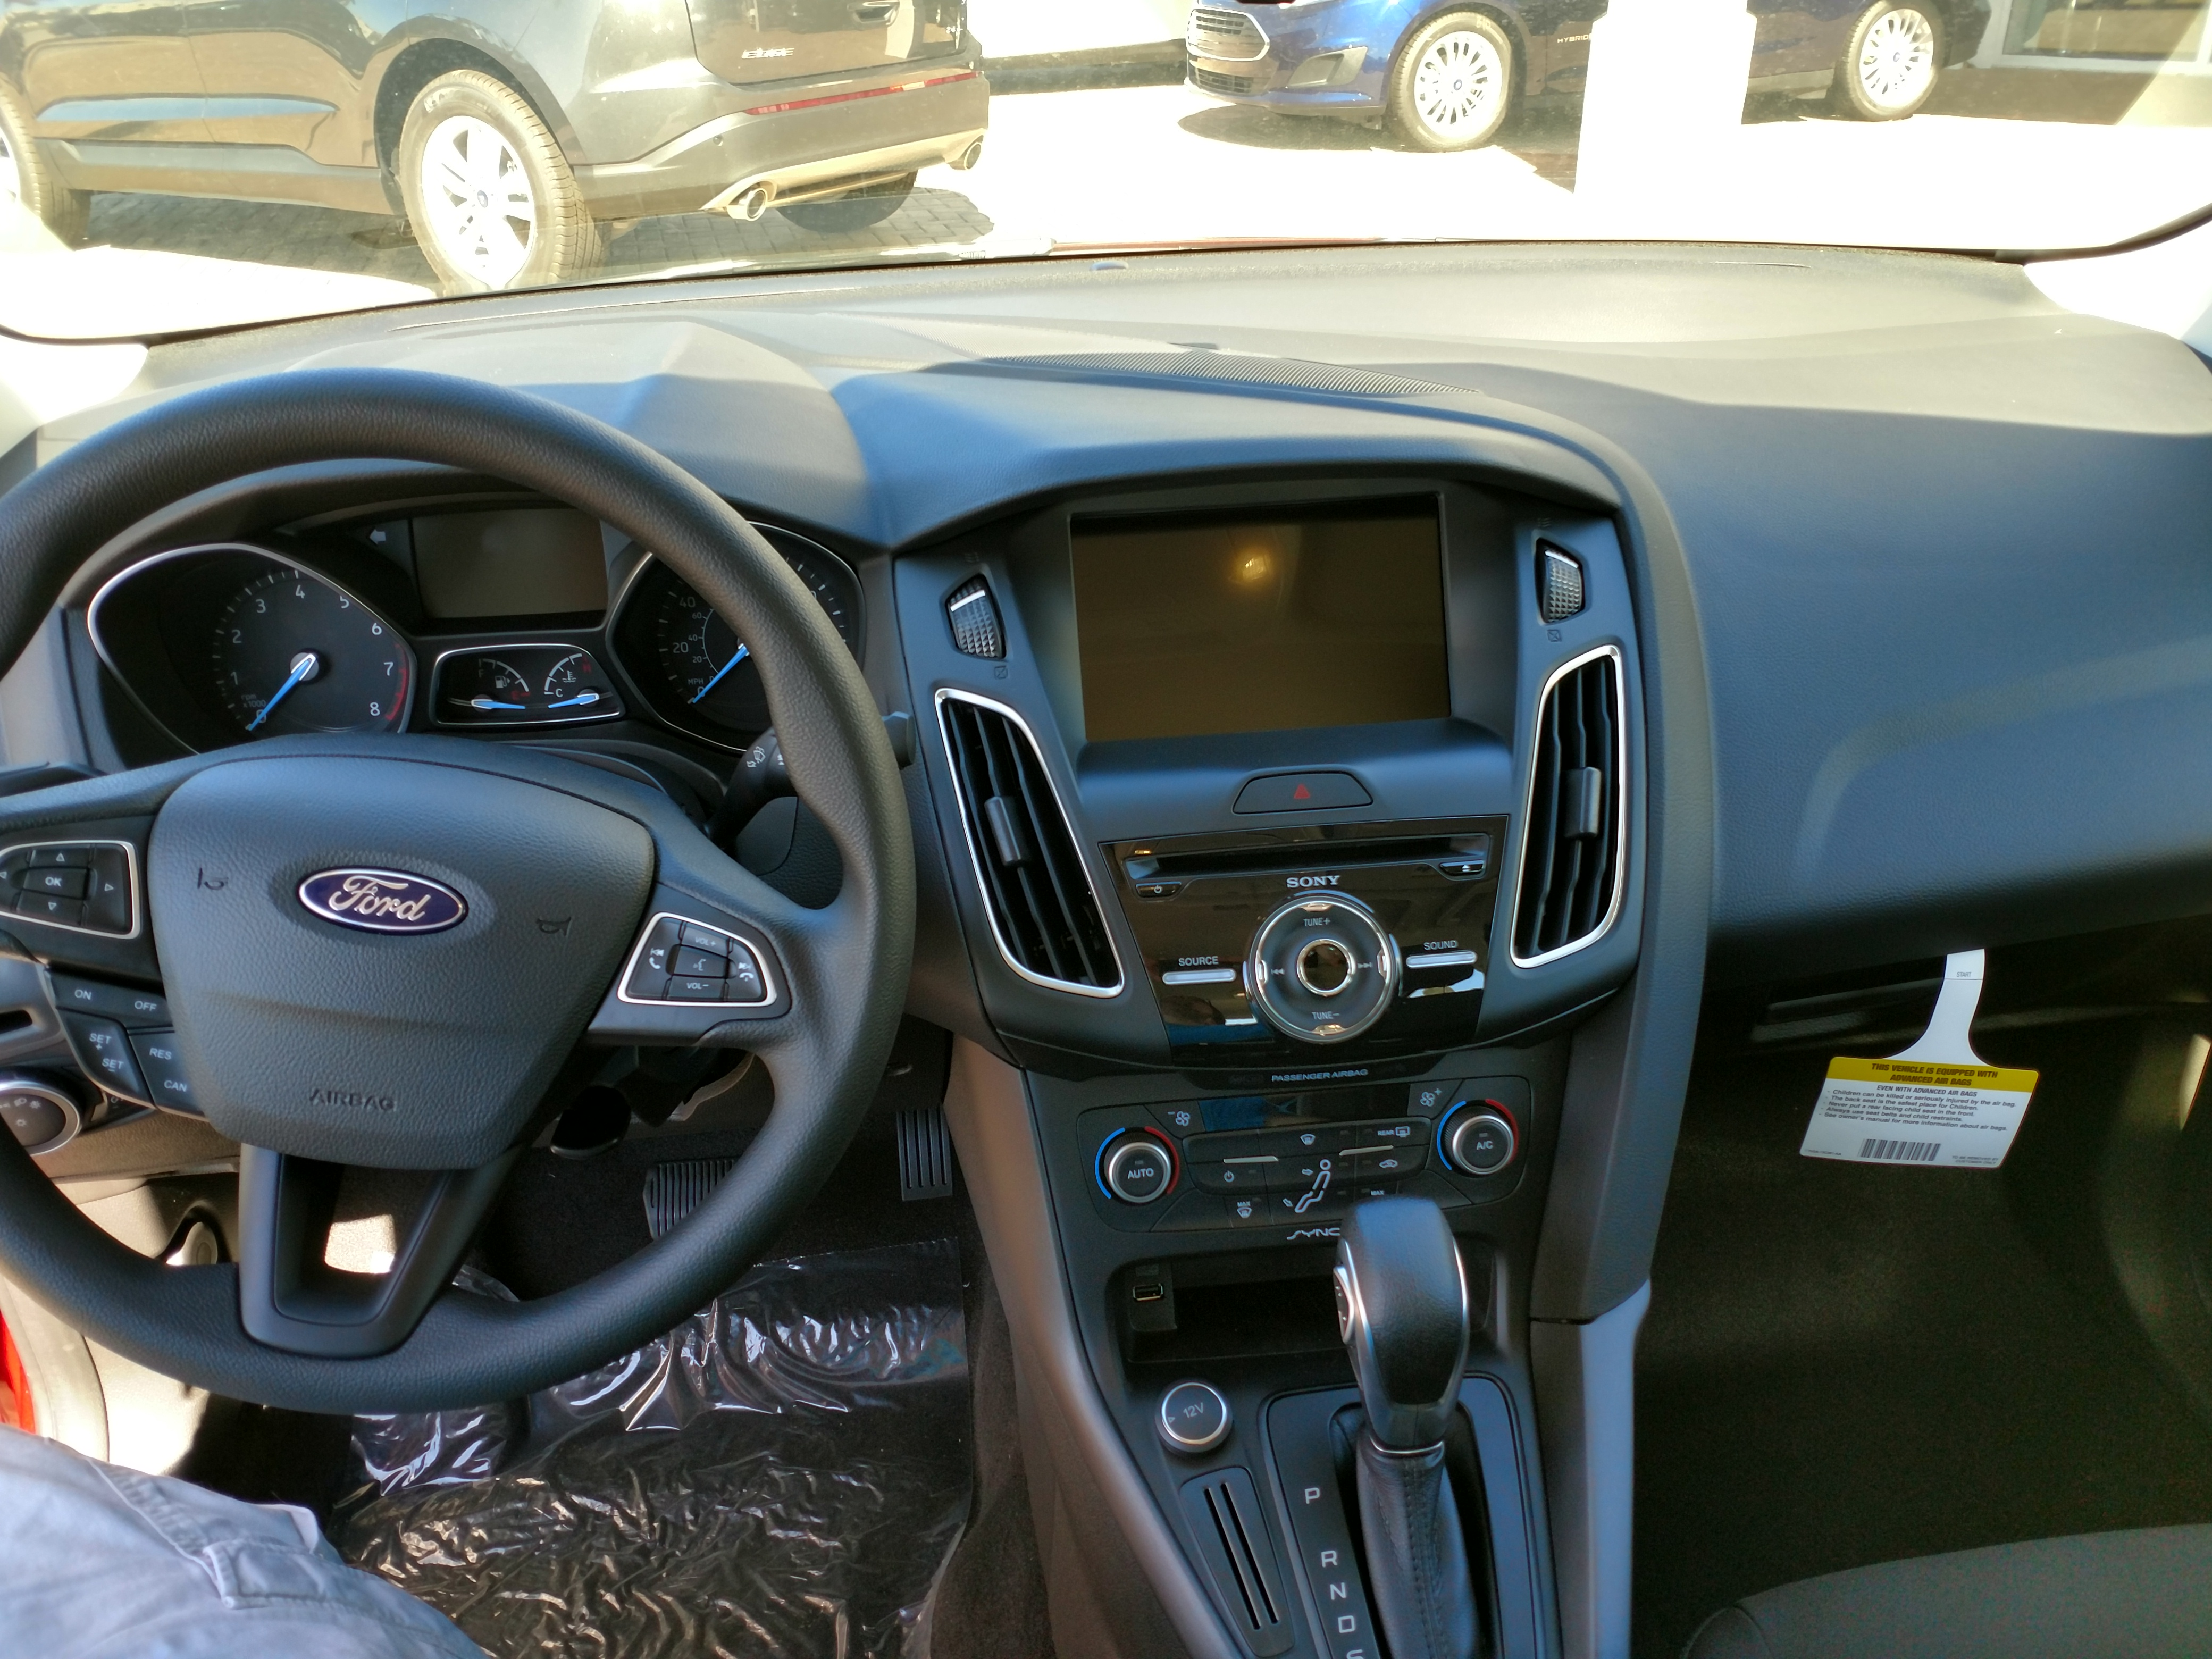Ford: (286, 861, 474, 943)
